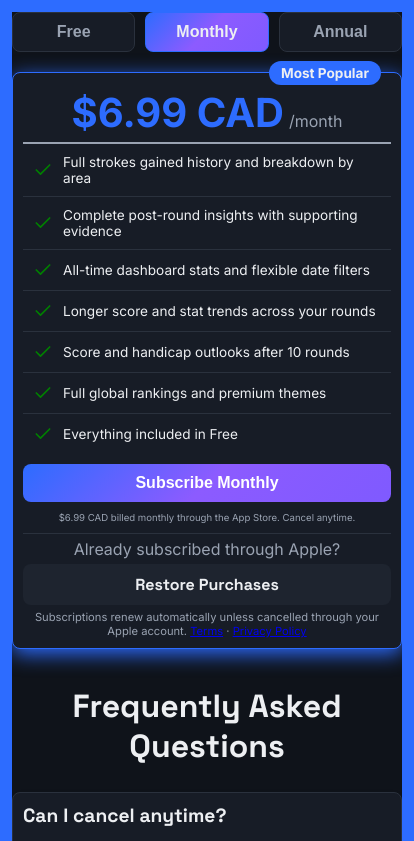
/pricing page › falls back to webhook polling when restore reconciliation is unavailable
Click the button "Restore Purchases": (207, 584) left=23, top=564, right=391, bottom=605
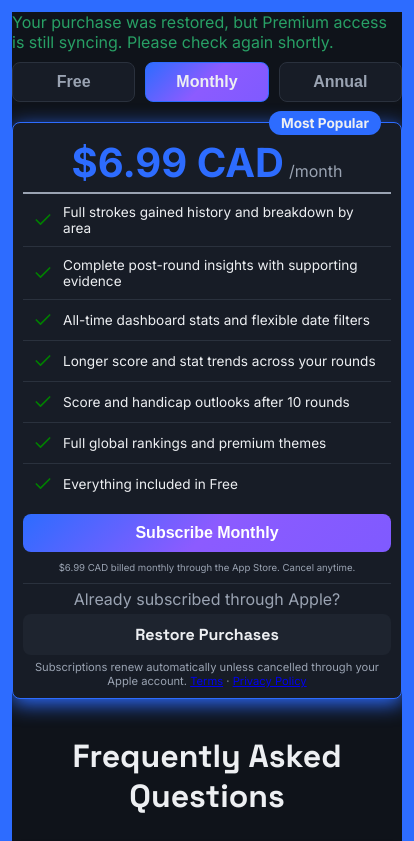
Expected: the text "Premium access is still syncing" is shown, left=12, top=12, right=387, bottom=52
